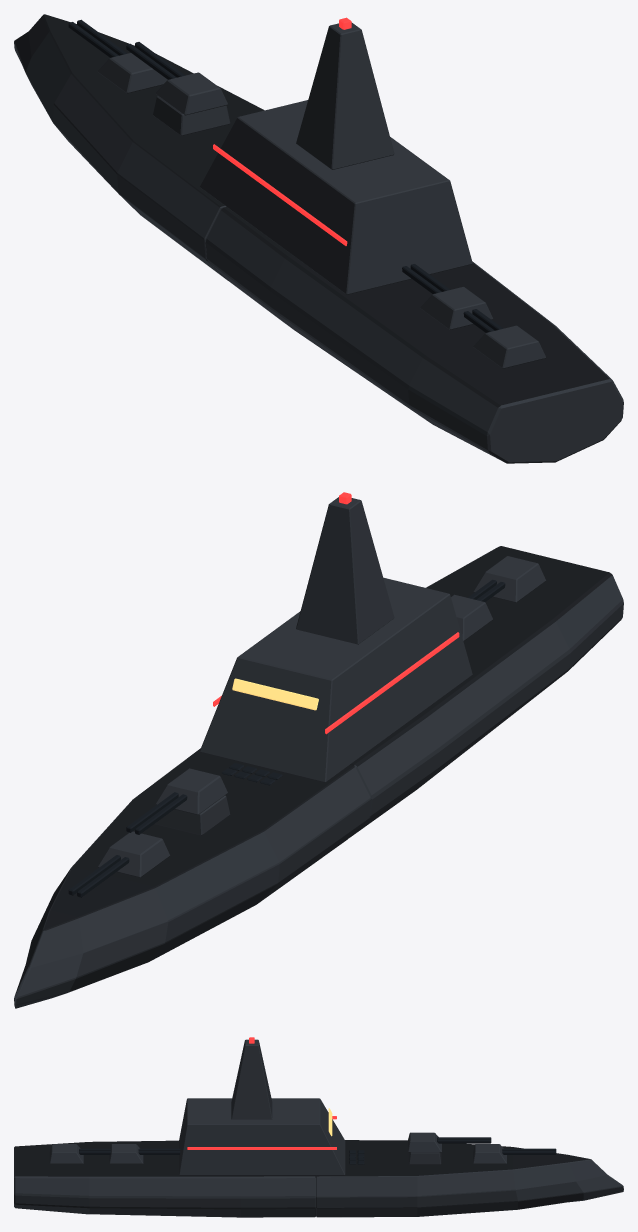
Rendered from cruiser.glb.
The picture shows the model from 3 angles, top to bottom: view 1: azimuth 30°, elevation 25°; view 2: azimuth 150°, elevation 25°; view 3: azimuth 270°, elevation 25°; orthographic projection. The views are drawn at different scales.
Visible parts, largest first — view 1: SternTop, SternHull, BowHull, BowTop; view 2: SternTop, BowHull, SternHull, BowTop; view 3: BowHull, SternHull, SternTop, BowTop.
Part boxes in pixels (box(x1,y1,x2,y2)): SternTop: box(200, 17, 545, 368); SternHull: box(205, 207, 623, 463); BowHull: box(14, 14, 264, 280); BowTop: box(68, 19, 230, 135); SternTop: box(200, 492, 545, 782); BowHull: box(14, 748, 370, 1008); SternHull: box(349, 546, 623, 837); BowTop: box(68, 763, 282, 897); BowHull: box(316, 1140, 623, 1217); SternHull: box(14, 1140, 316, 1217); SternTop: box(49, 1037, 345, 1175); BowTop: box(349, 1132, 556, 1164).
Bounding box in the file's own units: 6.11 × 10.55 × 33.72.
